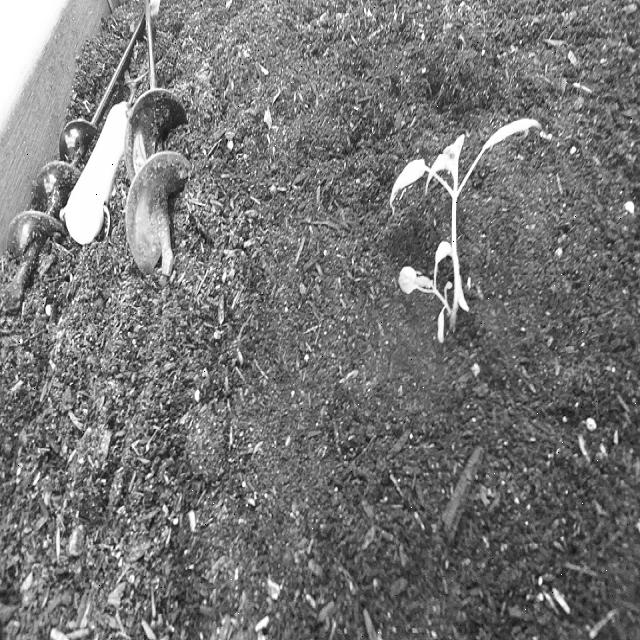Healthy: (387, 107, 547, 350)
